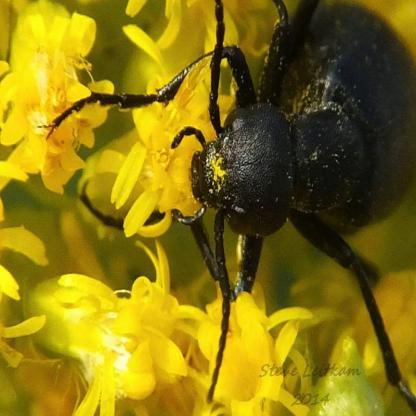beetle: (69, 0, 415, 393)
